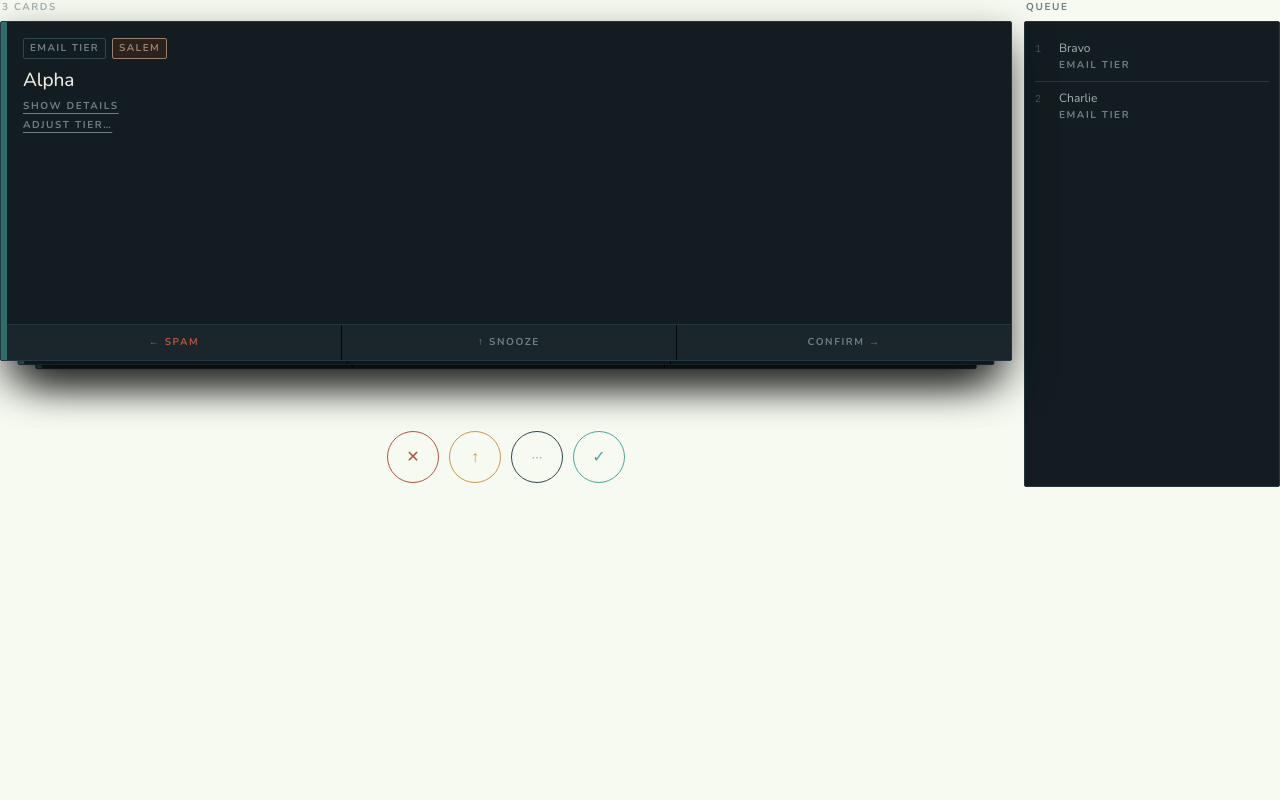
Test: Deck — snoozed drill-down (task #26 render) › Deal now removes just that card from the list; the others stay snoozed
The image size is (1280, 800).
Click the button with test id "deck-btn-snooze" at (475, 457), box [449,431,501,483]
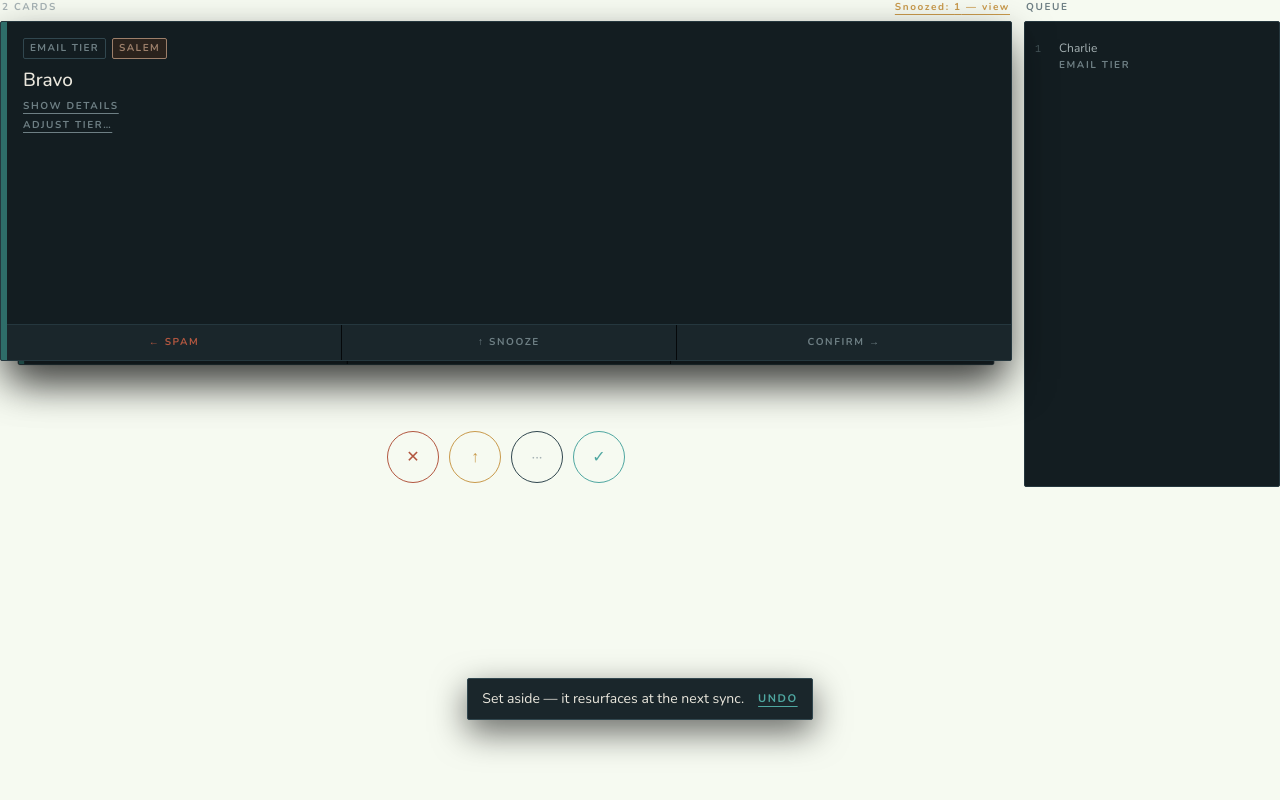
Click the button with test id "deck-btn-snooze" at (475, 457), box [449,431,501,483]
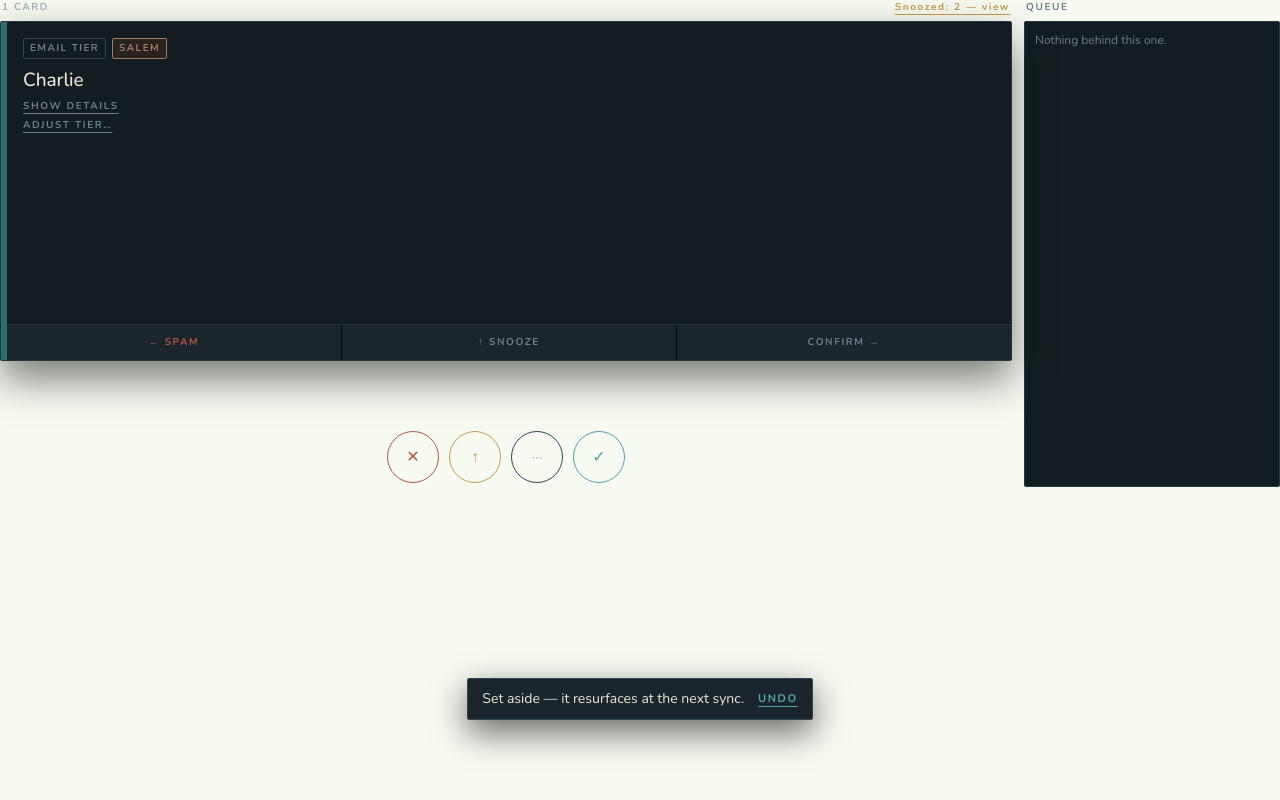
Click the button with test id "deck-snoozed" at (952, 8), box [895,0,1010,15]
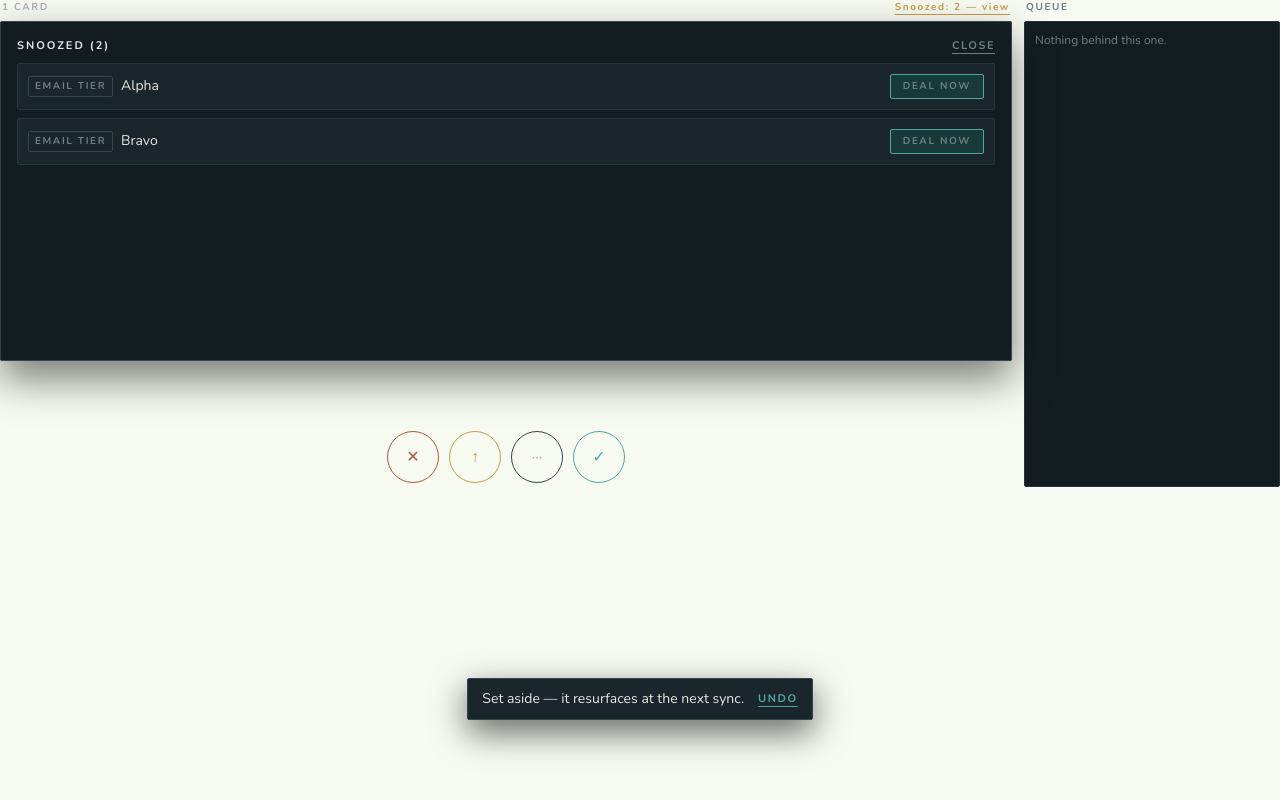
Result: the number of list items with test id "deck-snoozed-row" is 2 at [17,62,995,110]; [17,118,995,164]
Click the button with test id "deck-snoozed-deal" at (937, 86), box [890,74,984,98]
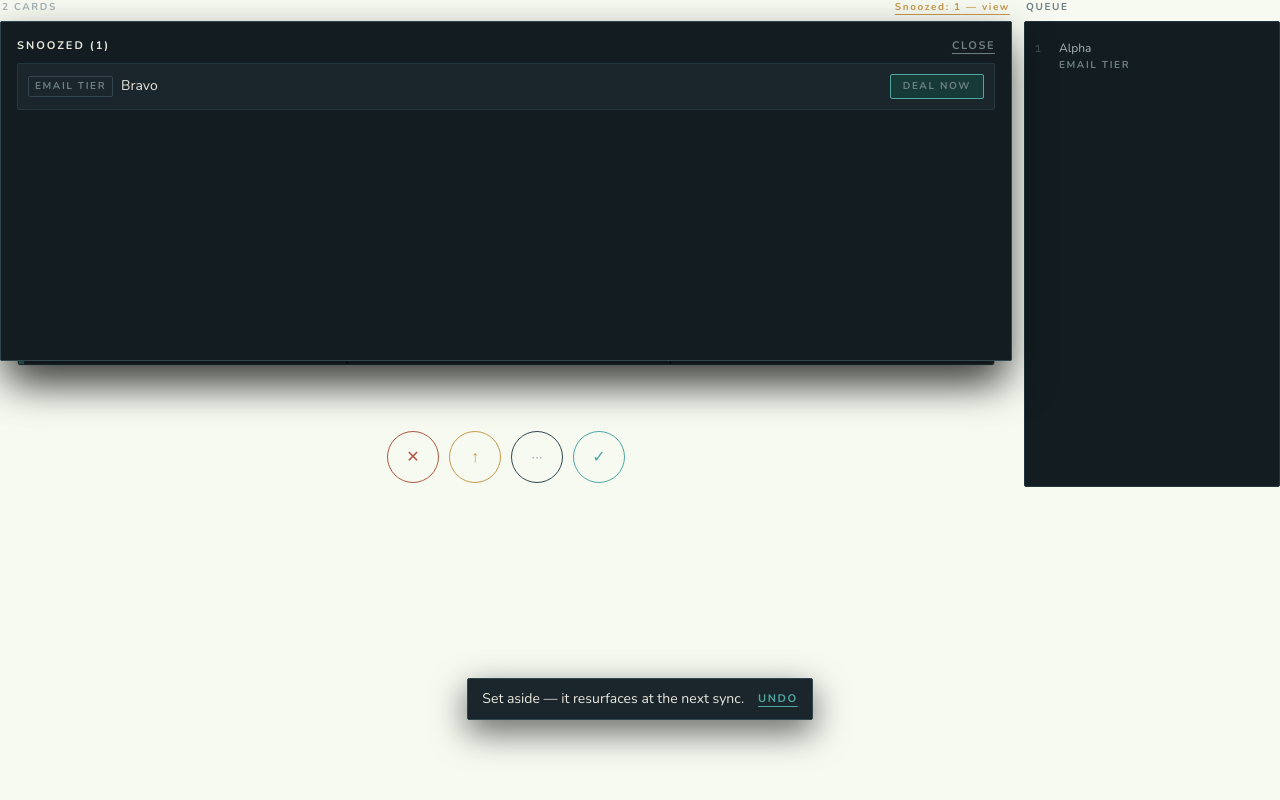
Result: the list item with test id "deck-snoozed-row" shows "Bravo" at [121,76,158,95]
Result: the number of list items with test id "deck-snoozed-row" is 1 at [17,62,995,110]
